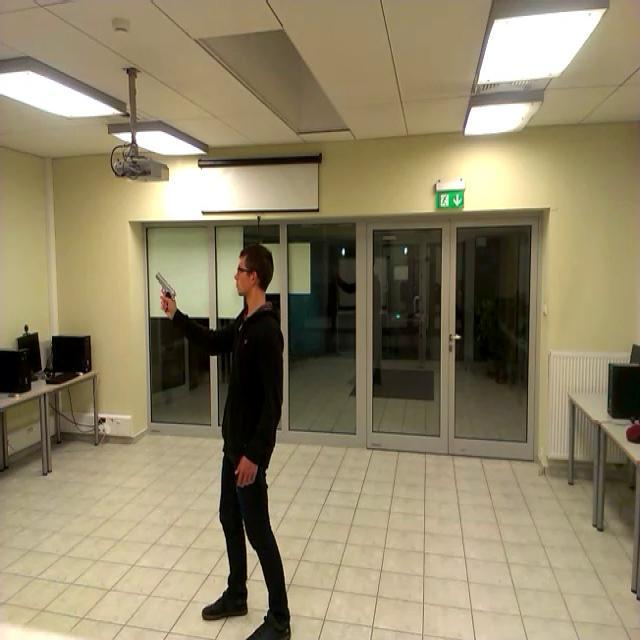Gun: (148, 268, 184, 318)
